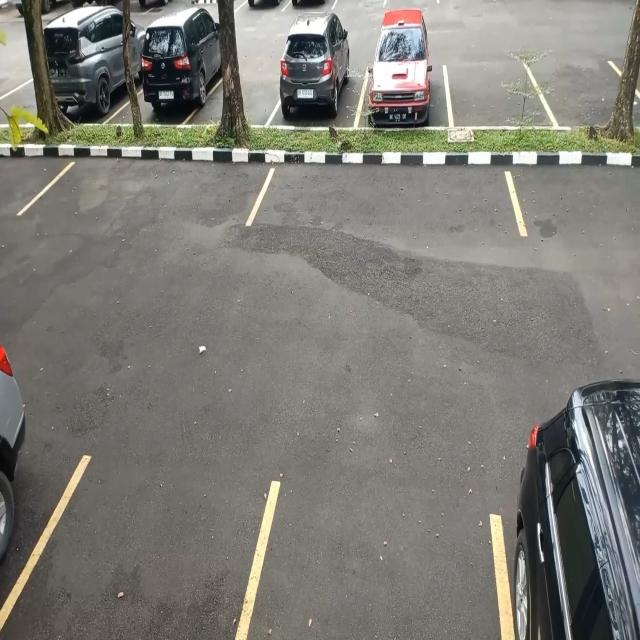empty: (263, 153, 523, 248), (41, 152, 264, 235), (540, 57, 638, 132), (448, 55, 542, 128)
occupied: (271, 35, 363, 132), (138, 25, 220, 128), (361, 39, 448, 134), (46, 23, 124, 126)
